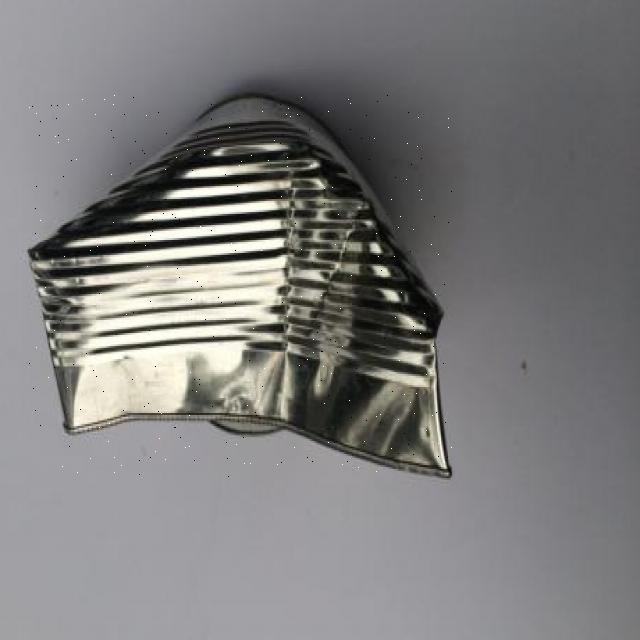metal: (29, 95, 452, 477)
